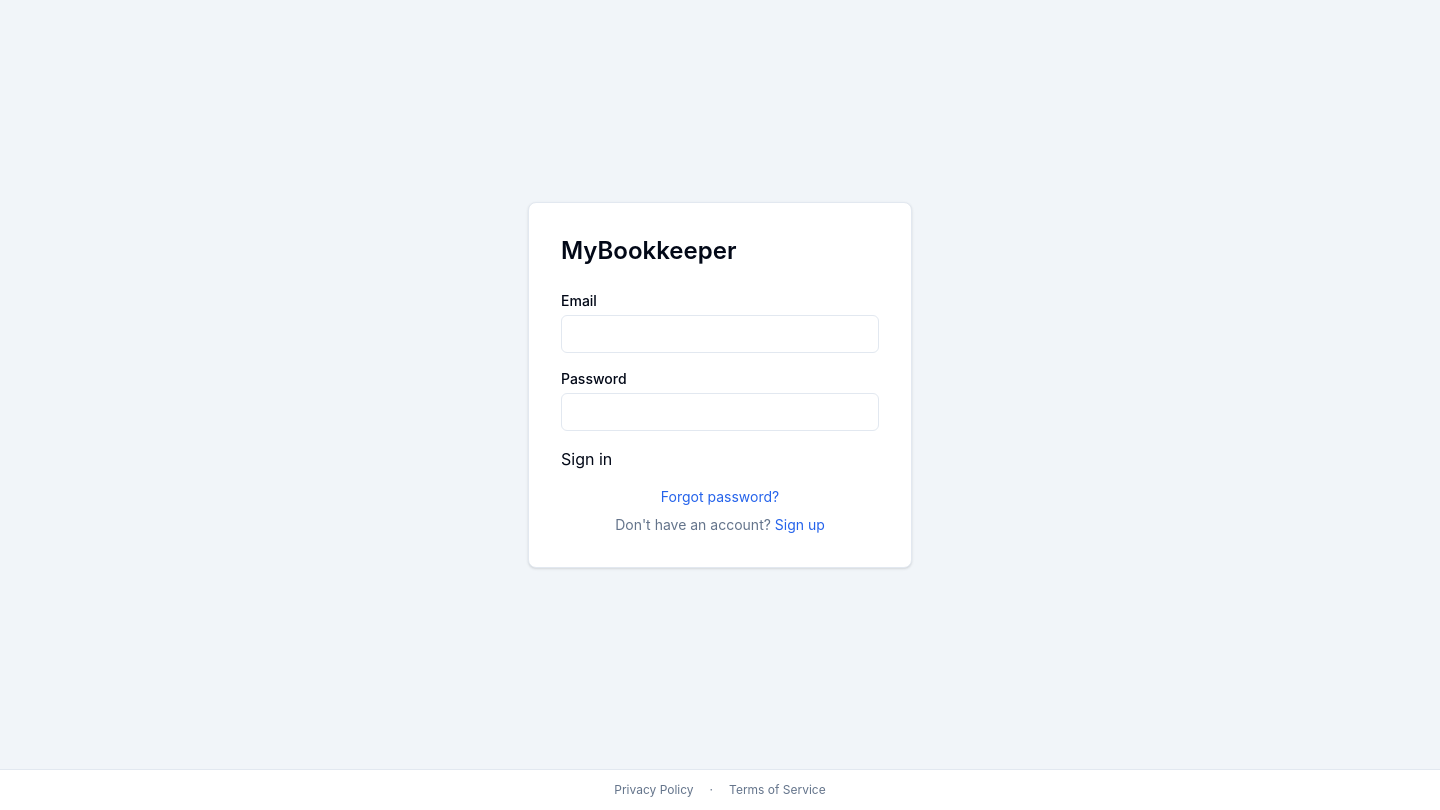
Test: Login — error handling › shows validation message when password is empty
Type "user@example.com" into the field at {"x": 720, "y": 334}, box [561,314,879,352]
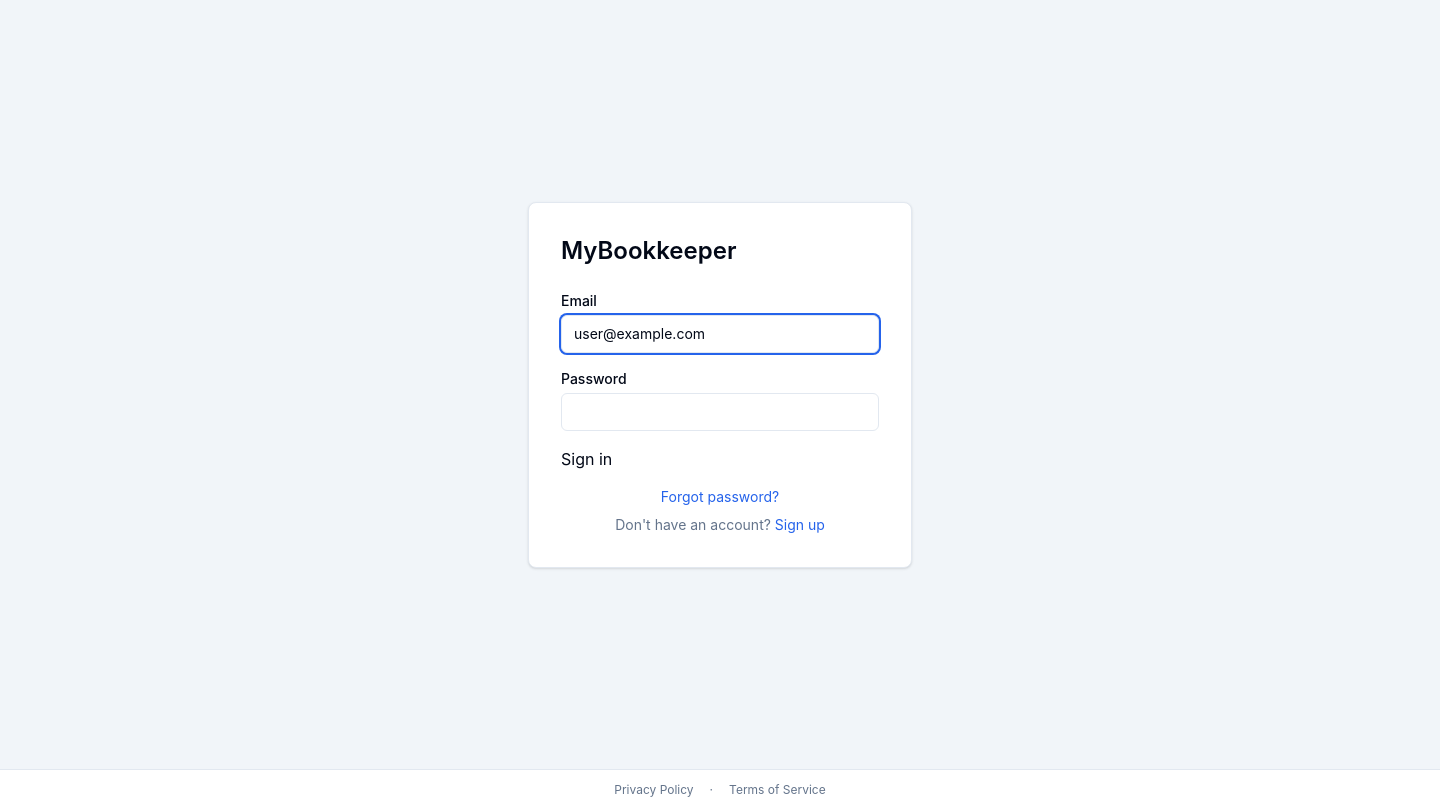
Submit the form, box [561,290,879,470]
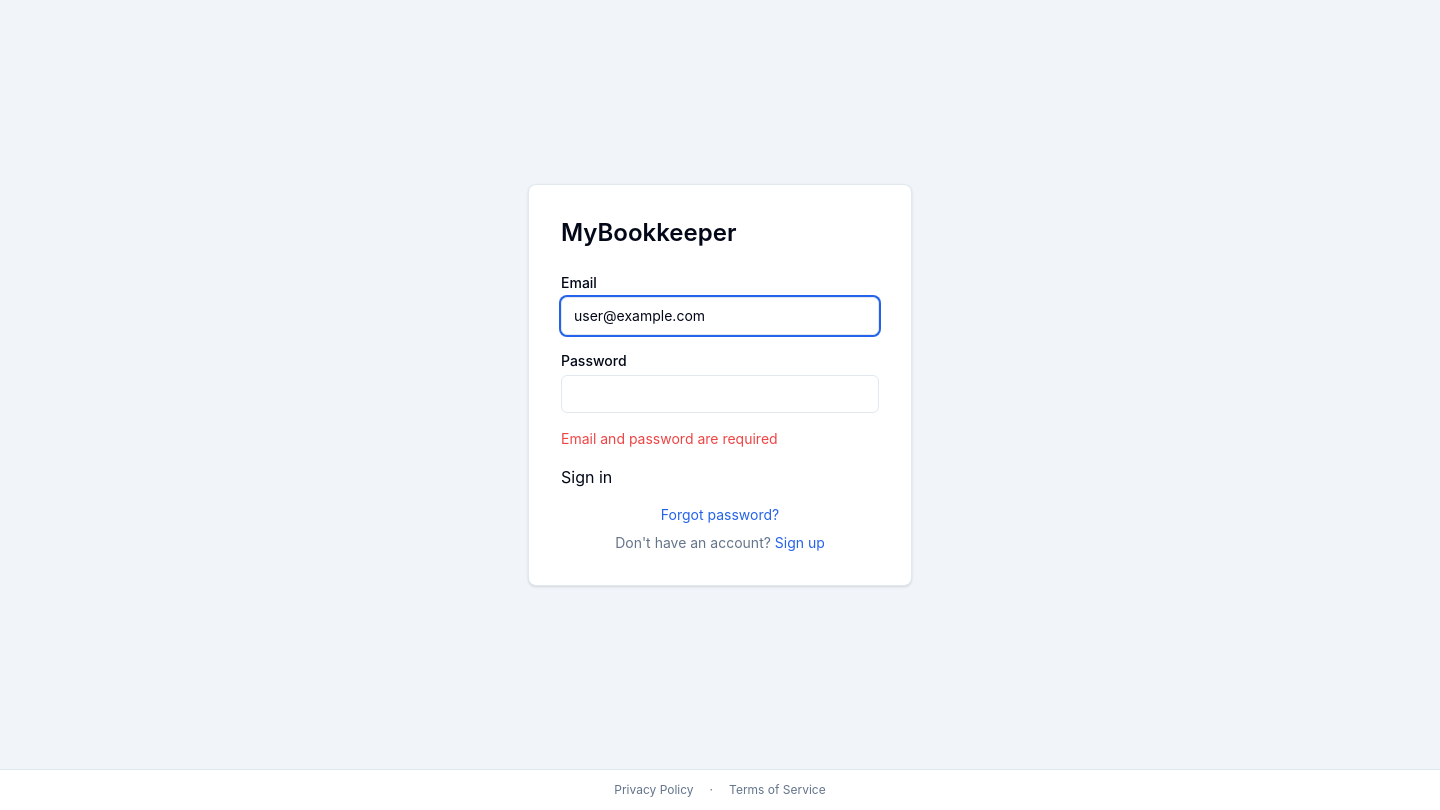
Expected: the text "Email and password are required" is shown, [561,430,778,446]
